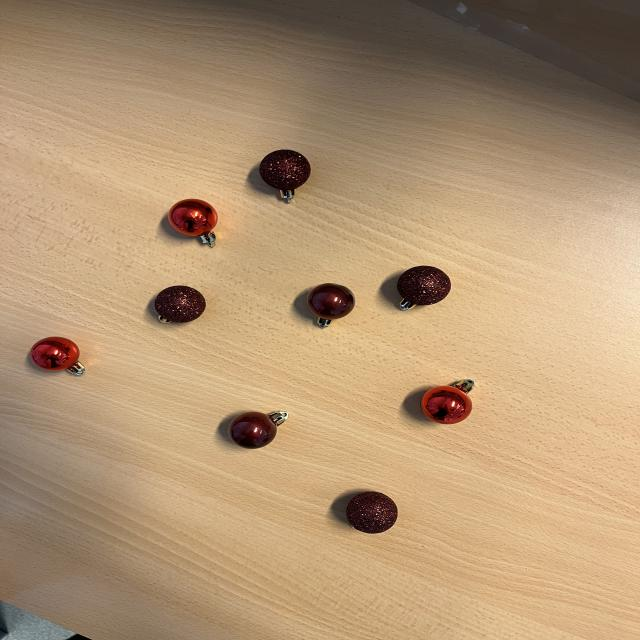glitter-bauble: (253, 148, 317, 207), (388, 262, 454, 315), (342, 487, 402, 537), (150, 280, 210, 328), (259, 150, 311, 203), (397, 266, 451, 311), (346, 491, 398, 534), (154, 286, 206, 323)
glossy-bauble: (161, 195, 225, 250), (23, 334, 91, 379), (418, 375, 478, 426), (420, 380, 474, 425), (168, 199, 218, 247), (29, 337, 85, 376)
wine-red-bauble: (226, 406, 291, 452), (300, 280, 360, 329), (228, 411, 289, 449), (306, 283, 356, 328)
